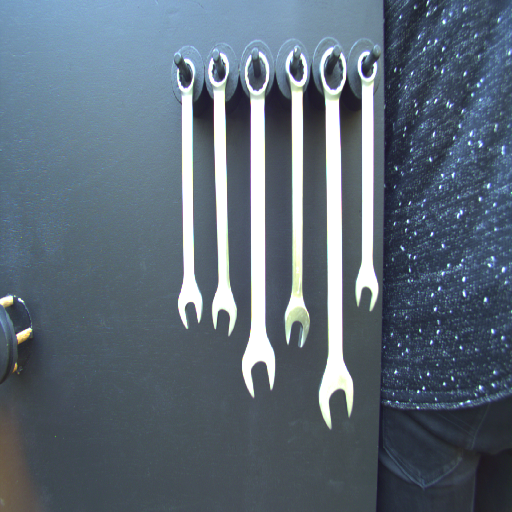bottom: (315, 365, 356, 432), (241, 335, 275, 401), (175, 280, 205, 332), (283, 295, 310, 351), (210, 288, 238, 338), (354, 262, 379, 313)
top: (318, 45, 347, 104), (242, 49, 274, 100), (283, 49, 309, 95), (205, 51, 232, 93), (356, 47, 381, 90), (174, 58, 197, 97)
